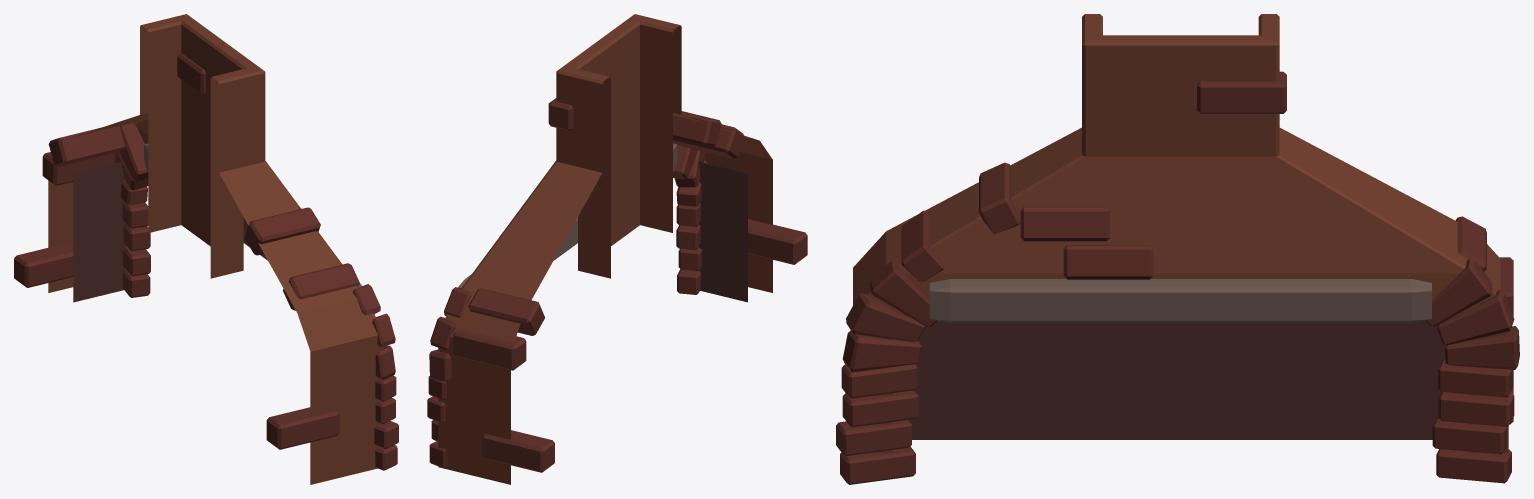
Rendered from fireplace.gltf.
The picture shows the model from 3 angles, left to right: view 1: azimuth 30°, elevation 25°; view 2: azimuth 150°, elevation 25°; view 3: azimuth 270°, elevation 25°; orthographic projection. The views are drawn at different scales.
Parts seen in each view (by area): view 1: Cube.002; view 2: Cube.002; view 3: Cube.002.
Part boxes in pixels (bbox=[...]): Cube.002: bbox=[14, 14, 398, 484]; Cube.002: bbox=[427, 14, 807, 484]; Cube.002: bbox=[836, 14, 1519, 484].
Bounding box in the file's own units: 1.01 × 2.71 × 4.
